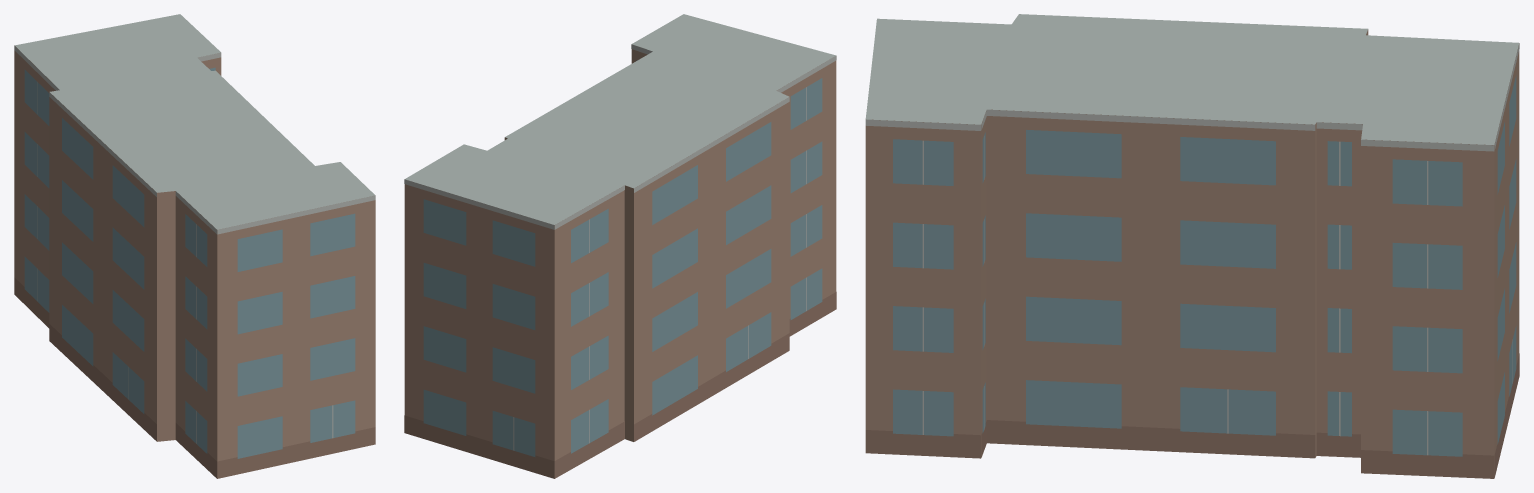
Rendered from survey-upis-32975413.glb.
The picture shows the model from 3 angles, left to right: view 1: azimuth 30°, elevation 25°; view 2: azimuth 150°, elevation 25°; view 3: azimuth 270°, elevation 25°; orthographic projection. The views are drawn at different scales.
Parts seen in each view (by area): view 1: survey-upis-32975413.tmp; view 2: survey-upis-32975413.tmp; view 3: survey-upis-32975413.tmp.
Part boxes in pixels (box(x1,y1,x2,y2)): survey-upis-32975413.tmp: box(14, 14, 375, 478); survey-upis-32975413.tmp: box(404, 14, 836, 478); survey-upis-32975413.tmp: box(865, 14, 1519, 478).
Bounding box in the file's own units: 10.8 × 12.8 × 22.74.
